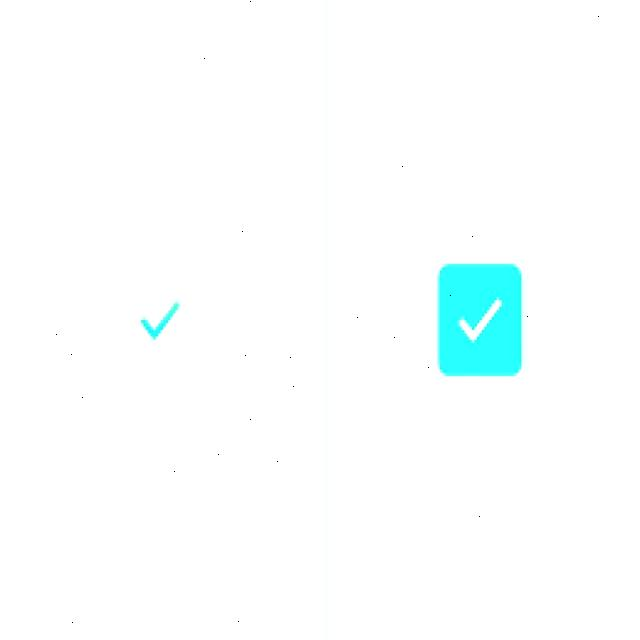checkbox: (435, 263, 524, 379), (116, 264, 202, 374)
